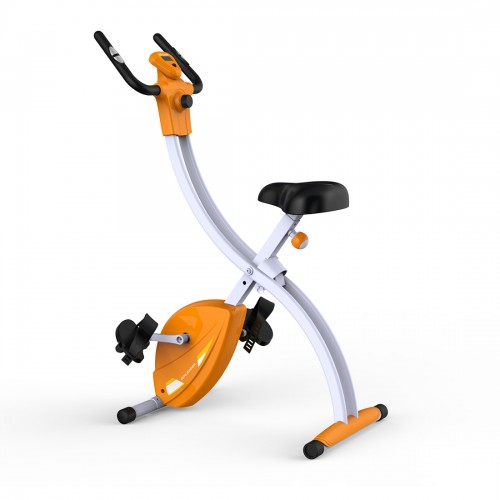gym_bike: (86, 31, 395, 460)
